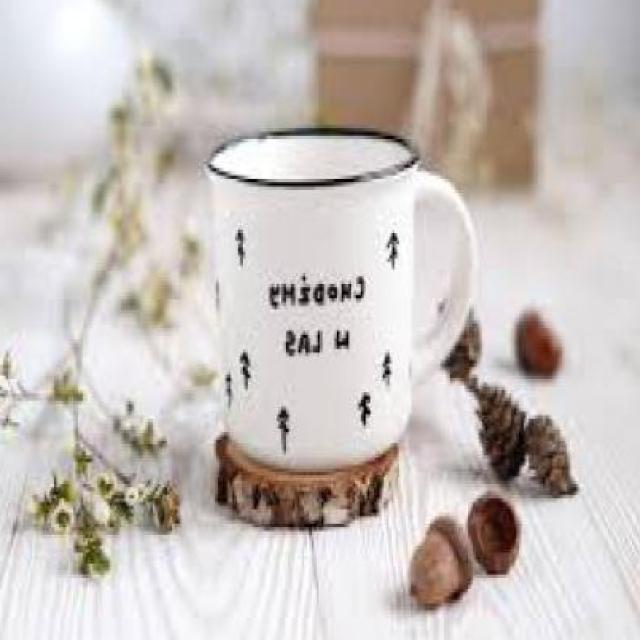cup: (202, 122, 481, 477)
